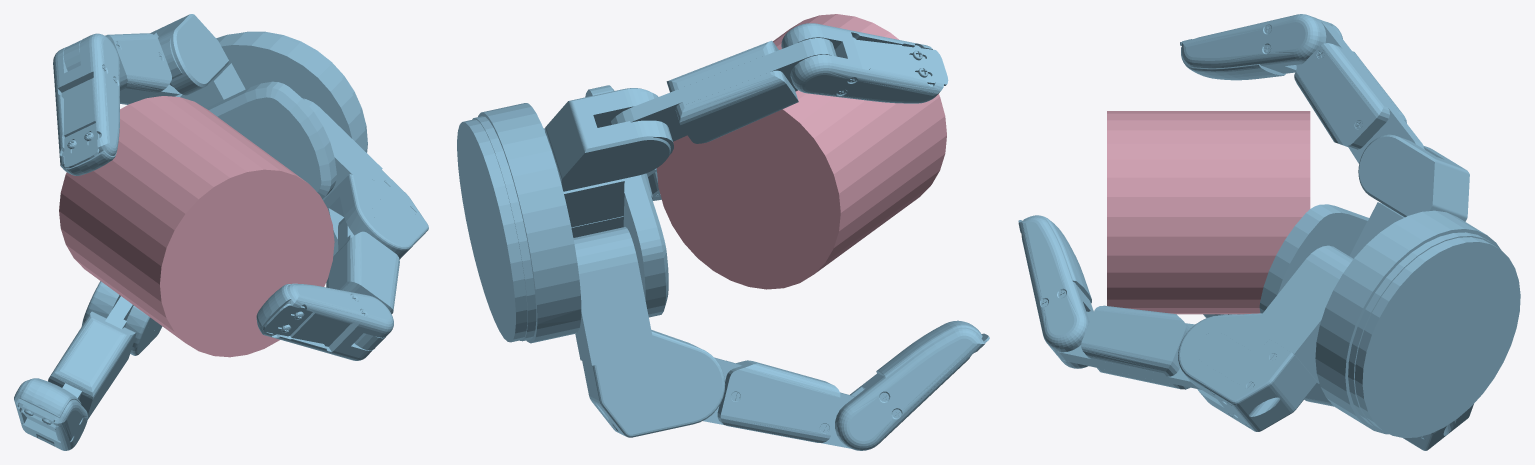
3 views of the same model, side by side, from view 1: azimuth 30°, elevation 25°; view 2: azimuth 150°, elevation 25°; view 3: azimuth 270°, elevation 25° (orthographic). The views are drawn at different scales.
Visible parts, largest first — view 1: world, cylinder_medium.stl; view 2: world, cylinder_medium.stl; view 3: world, cylinder_medium.stl.
Part boxes in pixels (x1,y1,x2,y2): world: (14, 14, 428, 450); cylinder_medium.stl: (59, 96, 334, 357); world: (457, 23, 989, 450); cylinder_medium.stl: (656, 14, 946, 289); world: (1018, 14, 1520, 450); cylinder_medium.stl: (1107, 111, 1310, 314).
Bounding box in the file's own units: 0.1949 × 0.1741 × 0.1975.
